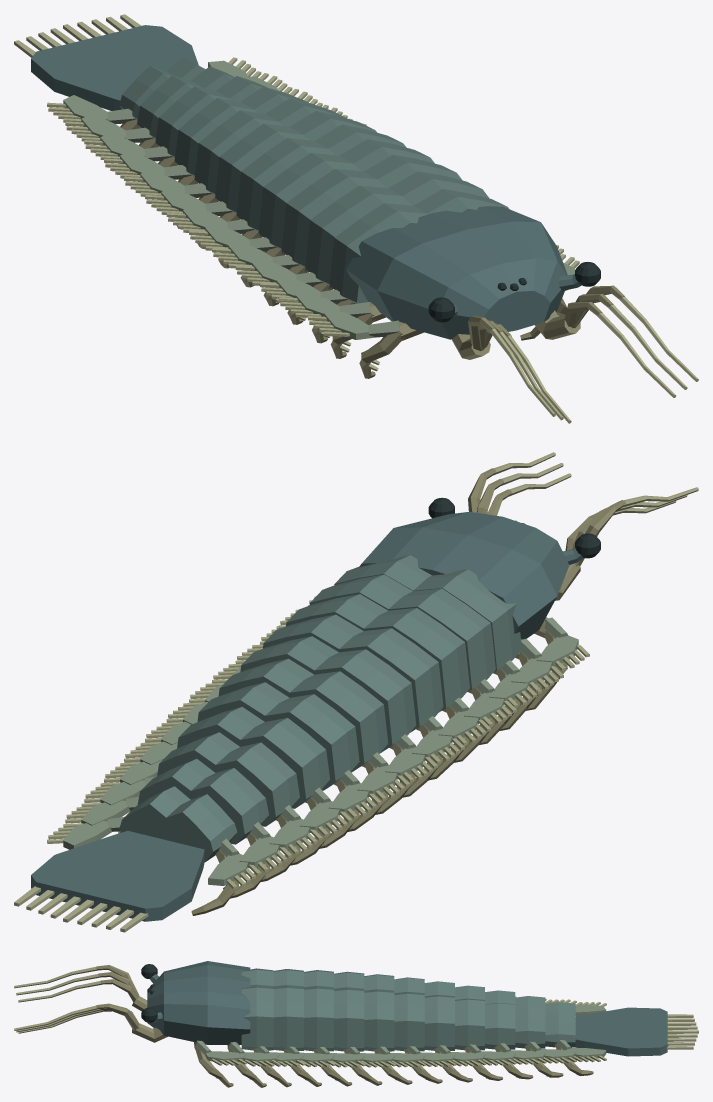
The picture shows the model from 3 angles, top to bottom: view 1: azimuth 30°, elevation 25°; view 2: azimuth 150°, elevation 25°; view 3: azimuth 270°, elevation 25°; orthographic projection. The views are drawn at different scales.
Parts seen in each view (by area): view 1: 02-eleven-tergites, 01-cephalic-shield, 08-exopods-and-lamellae, 03-telson-and-fringe, 05-great-appendages, 07-jointed-endopods, 04-eyes-and-stalks; view 2: 02-eleven-tergites, 08-exopods-and-lamellae, 03-telson-and-fringe, 01-cephalic-shield, 07-jointed-endopods, 05-great-appendages, 04-eyes-and-stalks; view 3: 02-eleven-tergites, 01-cephalic-shield, 08-exopods-and-lamellae, 03-telson-and-fringe, 07-jointed-endopods, 05-great-appendages, 04-eyes-and-stalks.
Boxes of the visible parts, left/top/right/bottom form: 02-eleven-tergites: left=119, top=57, right=508, bottom=303; 01-cephalic-shield: left=346, top=206, right=567, bottom=339; 08-exopods-and-lamellae: left=47, top=57, right=579, bottom=339; 03-telson-and-fringe: left=14, top=14, right=198, bottom=110; 05-great-appendages: left=451, top=285, right=698, bottom=423; 07-jointed-endopods: left=120, top=119, right=567, bottom=378; 04-eyes-and-stalks: left=428, top=262, right=600, bottom=322; 02-eleven-tergites: left=119, top=555, right=521, bottom=862; 08-exopods-and-lamellae: left=47, top=596, right=589, bottom=889; 03-telson-and-fringe: left=14, top=831, right=204, bottom=932; 01-cephalic-shield: left=359, top=511, right=569, bottom=639; 07-jointed-endopods: left=118, top=631, right=567, bottom=915; 05-great-appendages: left=468, top=452, right=698, bottom=600; 04-eyes-and-stalks: left=428, top=497, right=600, bottom=564; 02-eleven-tergites: left=241, top=968, right=575, bottom=1051; 01-cephalic-shield: left=147, top=961, right=250, bottom=1044; 08-exopods-and-lamellae: left=195, top=996, right=606, bottom=1067; 03-telson-and-fringe: left=575, top=1007, right=698, bottom=1056; 07-jointed-endopods: left=194, top=1043, right=593, bottom=1087; 05-great-appendages: left=14, top=965, right=167, bottom=1042; 04-eyes-and-stalks: left=141, top=964, right=162, bottom=1022.
Size of the model in its own units: 0.0182 by 0.00928 by 0.0658.
